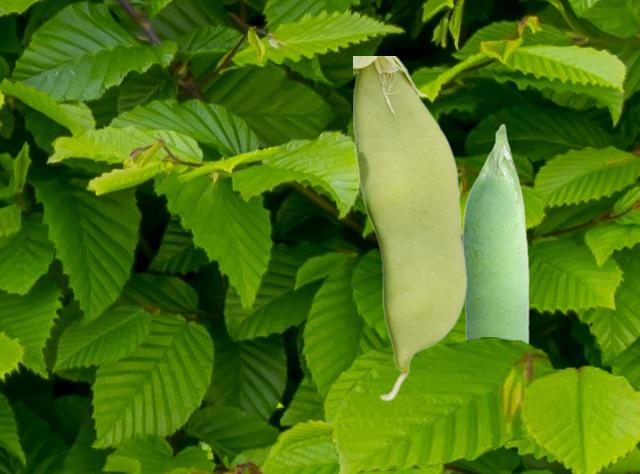pea: (353, 56, 466, 400), (462, 123, 528, 342)
